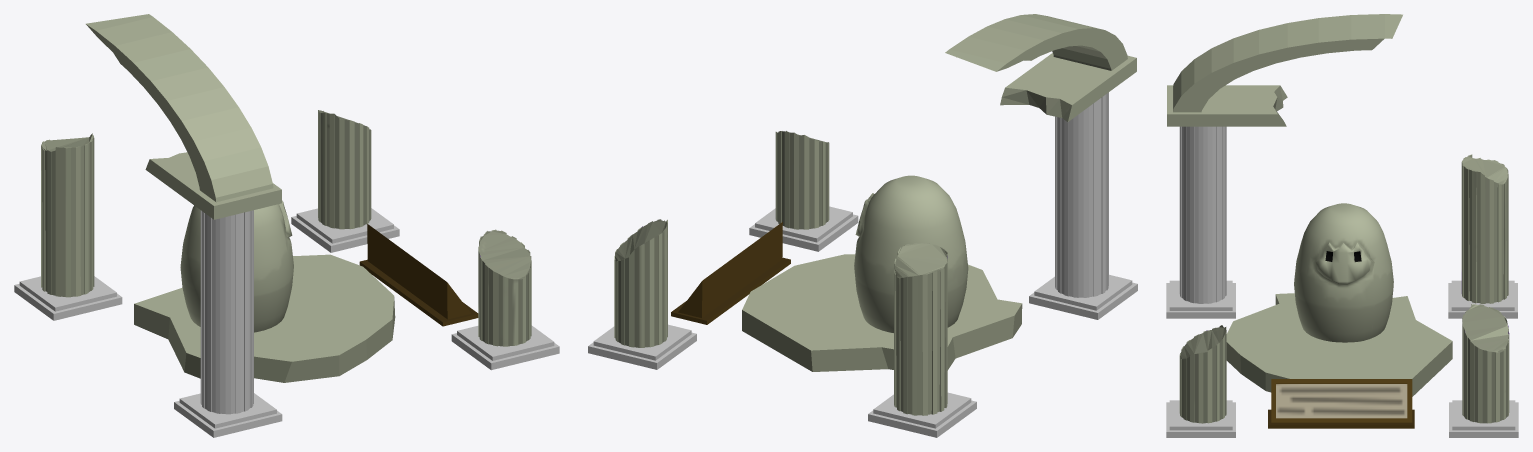
The model's file is Statue2.fbx.
The picture shows the model from 3 angles, left to right: view 1: azimuth 30°, elevation 25°; view 2: azimuth 150°, elevation 25°; view 3: azimuth 270°, elevation 25°; orthographic projection. The views are drawn at different scales.
Parts seen in each view (by area): view 1: StatueStand, ARch, Cylinder2, Cylinder1, Sphere, Cylinder4, Cylinder3, Cube, Arch2, Stand3, Stand1, Stand2 (+1 smaller); view 2: StatueStand, Sphere, Cylinder2, Cylinder1, ARch, Cylinder4, Arch2, Cylinder3, Cube, Stand1, Stand4, Stand2 (+1 smaller); view 3: StatueStand, Sphere, ARch, Cylinder2, Cube, Cylinder1, Cylinder4, Cylinder3, Arch2, Stand2, Stand3, Stand4 (+1 smaller).
Part boxes in pixels (box(x1,y1,x2,y2)): StatueStand: box(134, 254, 395, 382); ARch: box(86, 14, 273, 202); Cylinder2: box(200, 210, 253, 414); Cylinder1: box(41, 133, 94, 297); Sphere: box(180, 200, 293, 332); Cylinder4: box(318, 110, 371, 229); Cylinder3: box(478, 229, 531, 346); Cube: box(359, 224, 478, 326); Arch2: box(145, 152, 281, 219); Stand3: box(451, 325, 559, 370); Stand1: box(14, 276, 122, 320); Stand2: box(174, 393, 282, 437); StatueStand: box(742, 254, 1022, 371); Sphere: box(854, 175, 968, 332); Cylinder2: box(1055, 92, 1108, 297); Cylinder1: box(894, 243, 947, 415); ARch: box(945, 14, 1127, 71); Cylinder4: box(614, 219, 667, 347); Arch2: box(1000, 53, 1136, 121); Cylinder3: box(775, 131, 829, 229); Cube: box(671, 222, 790, 324); Stand1: box(868, 392, 976, 437); Stand4: box(588, 324, 696, 369); Stand2: box(1029, 274, 1137, 319); StatueStand: box(1226, 293, 1452, 396); Sphere: box(1294, 203, 1393, 342); ARch: box(1173, 14, 1402, 112); Cylinder2: box(1179, 126, 1226, 303); Cube: box(1268, 379, 1414, 428); Cylinder1: box(1461, 154, 1508, 303); Cylinder4: box(1462, 304, 1509, 423); Cylinder3: box(1179, 325, 1226, 423); Arch2: box(1167, 85, 1287, 126); Stand2: box(1166, 280, 1235, 318); Stand3: box(1166, 400, 1235, 437); Stand4: box(1449, 400, 1518, 437).
Size of the model in its own units: 500 by 438 by 500.
